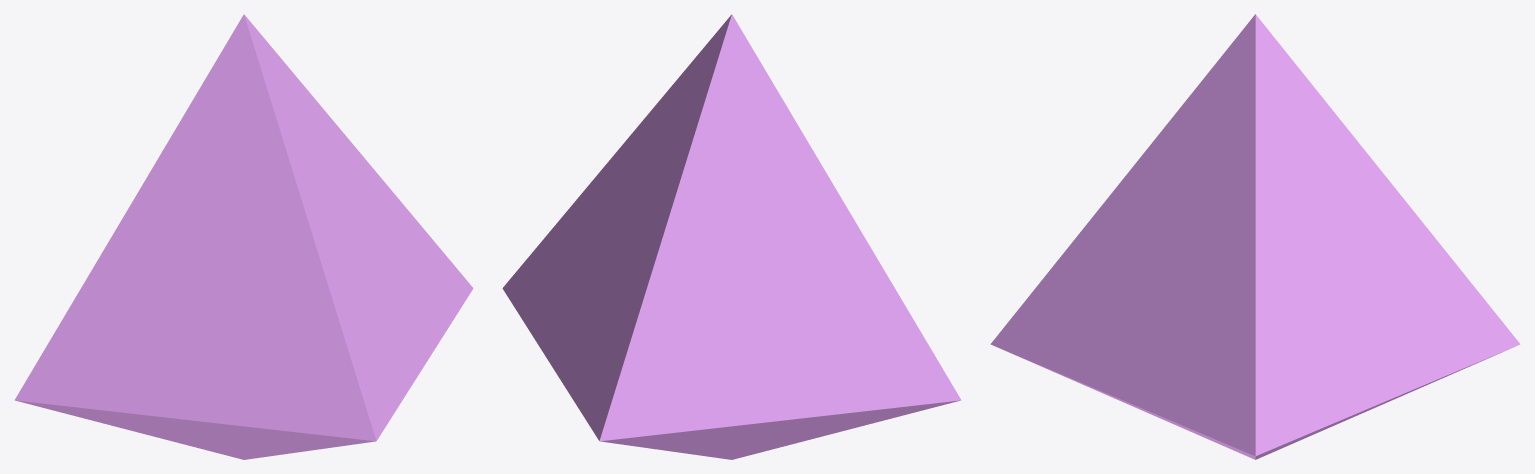
File: deraumere.gltf
The picture shows the model from 3 angles, left to right: view 1: azimuth 30°, elevation 25°; view 2: azimuth 150°, elevation 25°; view 3: azimuth 270°, elevation 25°; orthographic projection.
Parts seen in each view (by area): view 1: deraumere; view 2: deraumere; view 3: deraumere.
Part boxes in pixels (x1=…): deraumere: x1=14, y1=14, x2=473, y2=459; deraumere: x1=502, y1=14, x2=961, y2=459; deraumere: x1=990, y1=14, x2=1520, y2=459.
Size of the model in its own units: 0.32 by 0.297 by 0.32.
